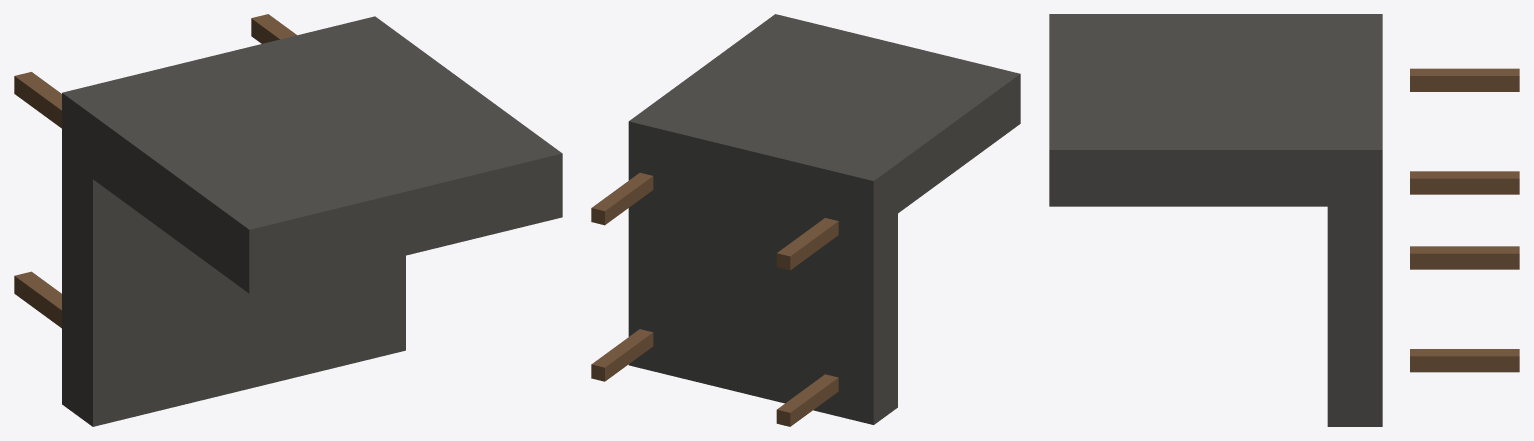
Rendered from gallery015_lounge_chair.glb.
3 views of the same model, side by side, from view 1: azimuth 30°, elevation 25°; view 2: azimuth 150°, elevation 25°; view 3: azimuth 270°, elevation 25° (orthographic). The views are drawn at different scales.
Parts seen in each view (by area): view 1: Back, Seat, Leg-0.31-0.25, Leg-0.310.25, Leg0.310.25; view 2: Seat, Back, Leg0.310.25, Leg-0.310.25, Leg0.31-0.25, Leg-0.31-0.25; view 3: Back, Seat, Leg-0.31-0.25, Leg-0.310.25, Leg0.31-0.25, Leg0.310.25.
Boxes of the visible parts, <box> form: Back: <box>90,37,562,293</box>; Seat: <box>62,16,405,426</box>; Leg-0.31-0.25: <box>14,271,61,328</box>; Leg-0.310.25: <box>14,72,61,128</box>; Leg0.310.25: <box>251,14,296,43</box>; Seat: <box>628,104,897,424</box>; Back: <box>653,14,1020,213</box>; Leg0.310.25: <box>591,172,653,225</box>; Leg-0.310.25: <box>776,218,838,270</box>; Leg0.31-0.25: <box>591,329,653,381</box>; Leg-0.31-0.25: <box>776,374,838,426</box>; Back: <box>1049,14,1331,206</box>; Seat: <box>1327,14,1382,426</box>; Leg-0.31-0.25: <box>1410,246,1519,269</box>; Leg-0.310.25: <box>1410,68,1519,91</box>; Leg0.31-0.25: <box>1410,349,1519,372</box>; Leg0.310.25: <box>1410,171,1519,194</box>.
Size of the model in its own units: 0.82 by 0.78 by 1.2.
